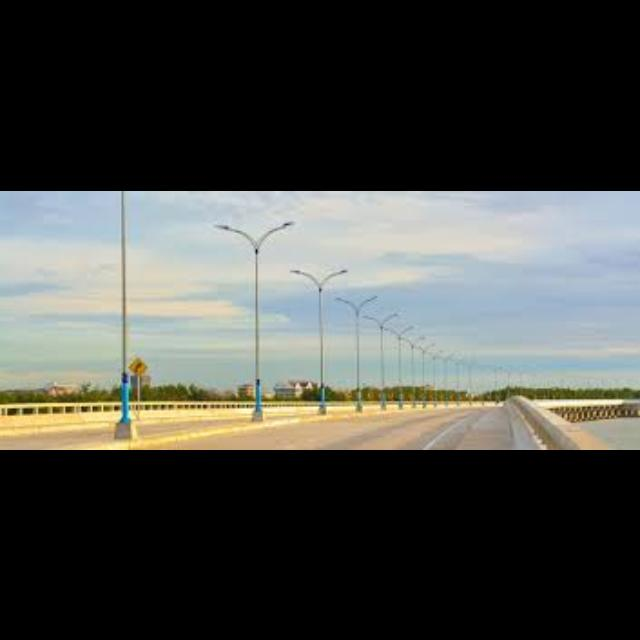Street-Lamp: (205, 213, 301, 425)
